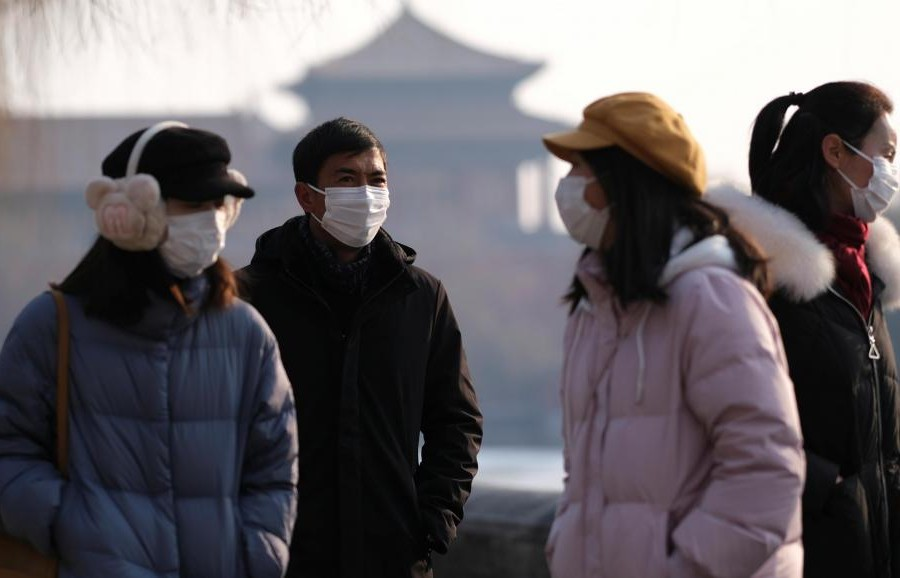with_mask: (136, 144, 243, 307), (816, 89, 900, 231), (292, 141, 395, 248), (547, 143, 629, 261)
